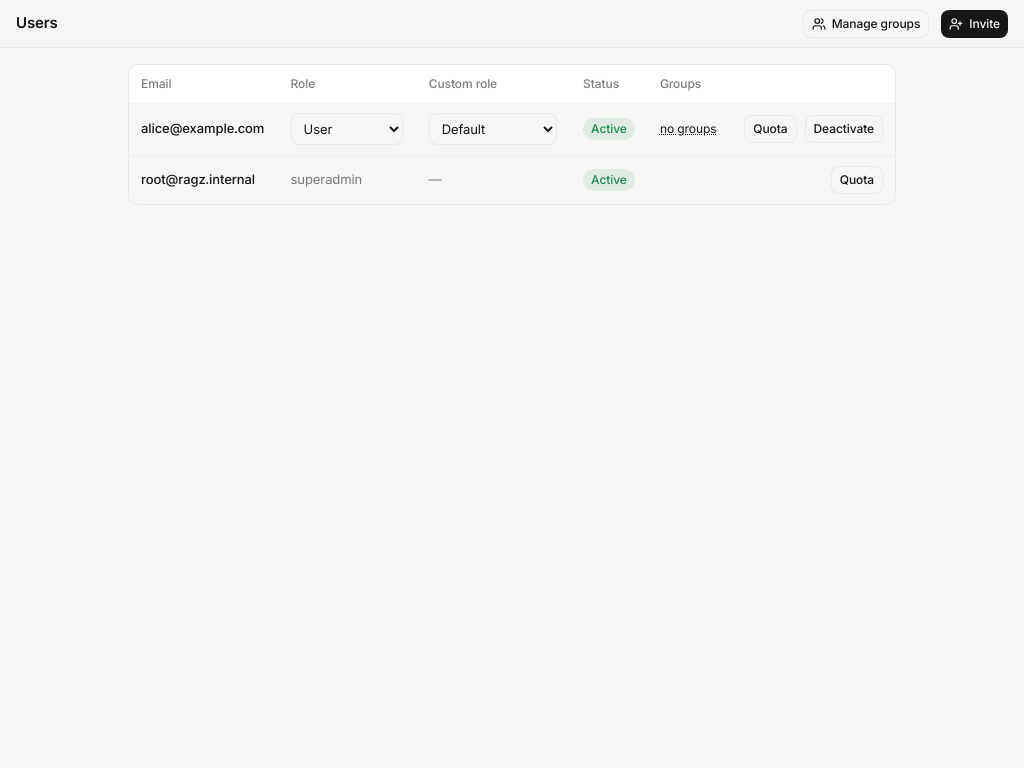
Test: a superadmin row still shows Quota but hides Deactivate
Expected: the number of buttons "Deactivate" is 1, [804,115,883,143]
Click the button "Quota" in the row of "root@ragz.internal" at {"x": 857, "y": 180}, box [831,166,883,194]
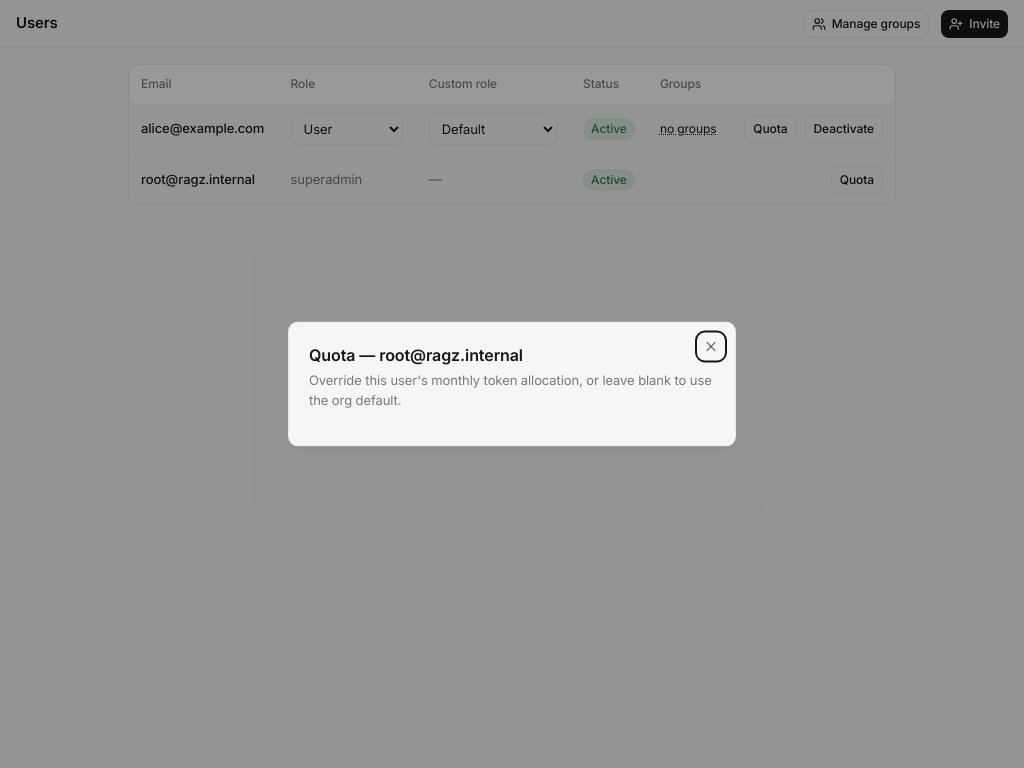
Now the heading "Quota — root@ragz.internal" is shown, box [309,344,523,364]
